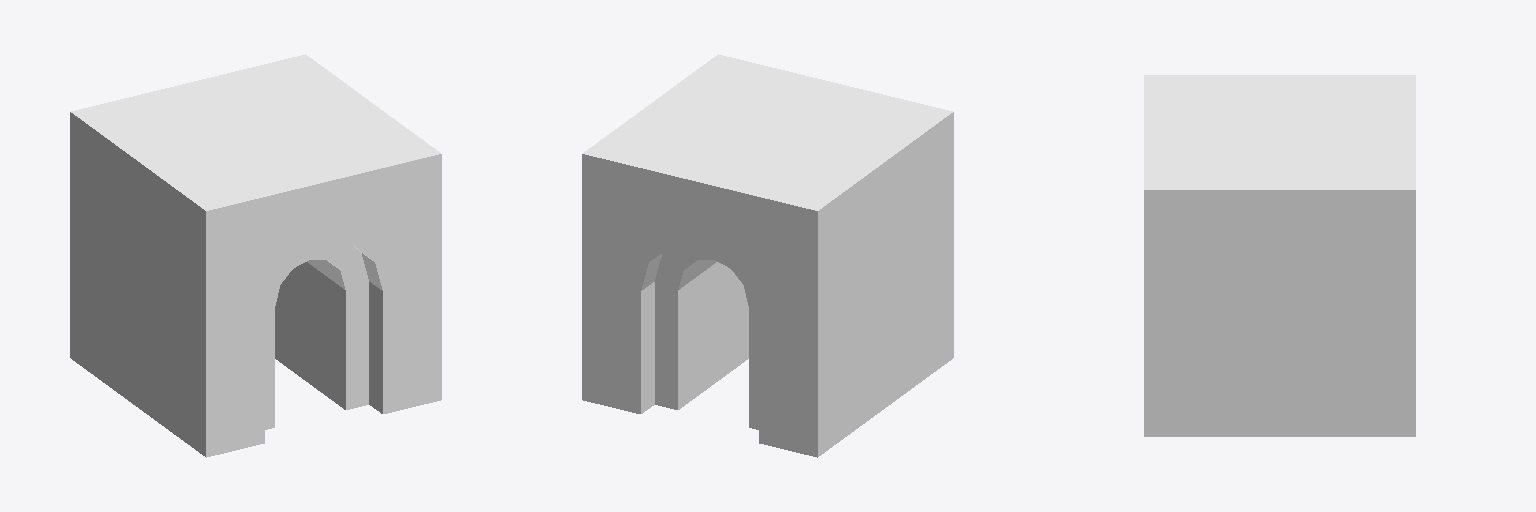
Rendered from wallPaint_gate.obj.
3 views of the same model, side by side, from view 1: azimuth 30°, elevation 25°; view 2: azimuth 150°, elevation 25°; view 3: azimuth 270°, elevation 25° (orthographic).
Visible parts, largest first — view 1: wallPaint_gate; view 2: wallPaint_gate; view 3: wallPaint_gate.
Part boxes in pixels (bbox=[...]): wallPaint_gate: bbox=[70, 54, 441, 457]; wallPaint_gate: bbox=[582, 54, 953, 457]; wallPaint_gate: bbox=[1144, 75, 1415, 436].
Bounding box in the file's own units: 1 × 1 × 1.